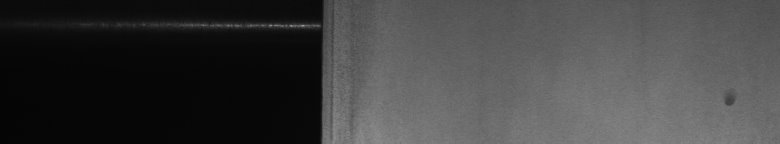fi: (718, 93, 739, 112)
